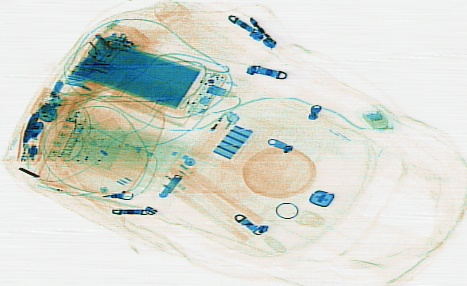lighter: (185, 109, 240, 159)
